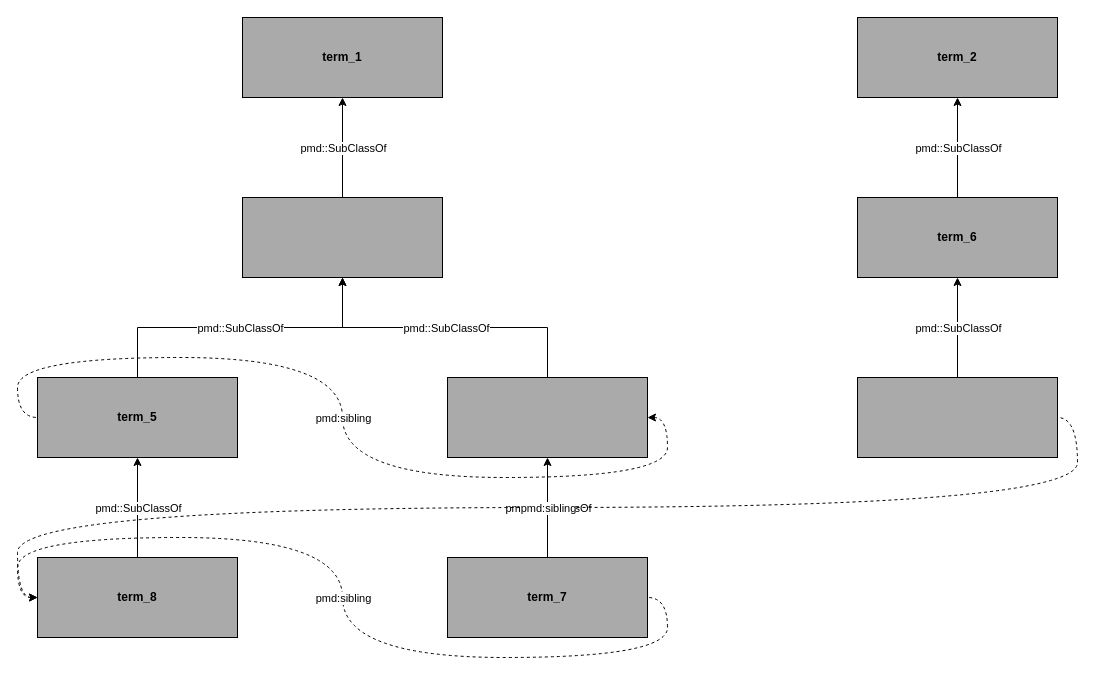
This 1095x675 diagram has some shape labels left out. Here are the shapes that lost their labels. From the top down, the centre of each, then its label:
At (342,237): "term_3".
At (547,417): "term_4".
At (957,417): "term_9".
